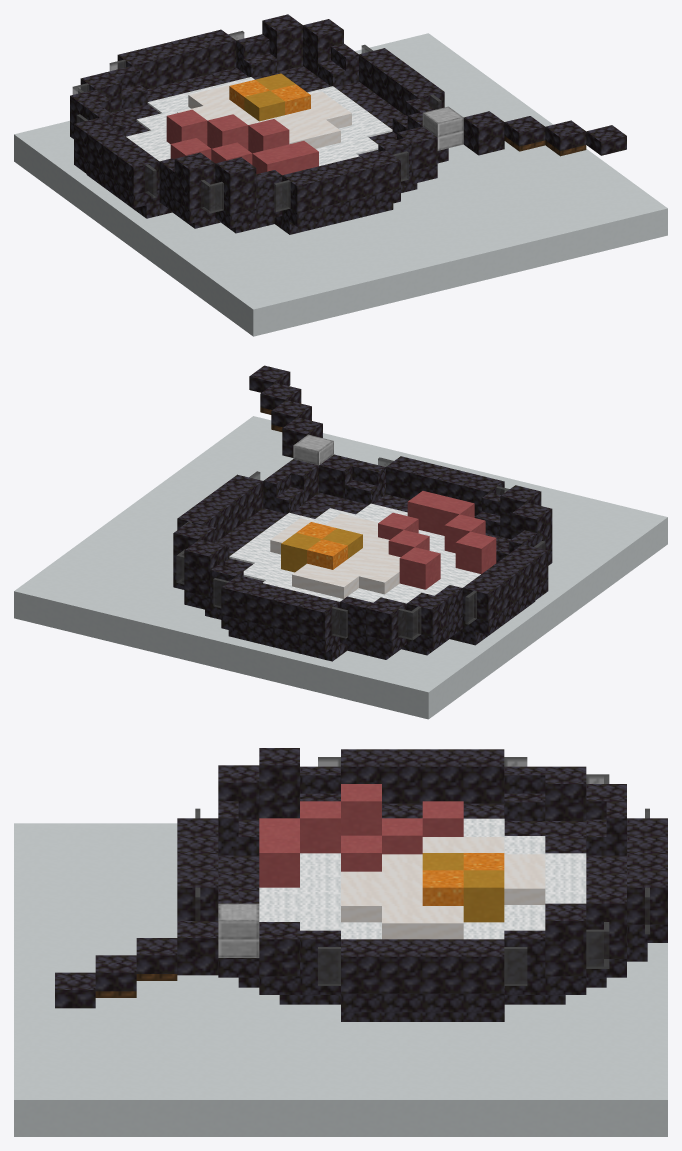
The picture shows the model from 3 angles, top to bottom: view 1: azimuth 30°, elevation 25°; view 2: azimuth 150°, elevation 25°; view 3: azimuth 270°, elevation 25°; orthographic projection. The views are drawn at different scales.
Parts seen in each view (by area): view 1: ZerpCraft Founders NFT #095; view 2: ZerpCraft Founders NFT #095; view 3: ZerpCraft Founders NFT #095.
Boxes of the visible parts, box(x1,y1,x2,y2) form: ZerpCraft Founders NFT #095: box(14, 14, 667, 336); ZerpCraft Founders NFT #095: box(14, 365, 667, 719); ZerpCraft Founders NFT #095: box(14, 748, 667, 1136).
Size of the model in its own units: 16 by 3.5 by 16.
Materials: 14 (14 with a texture image).
